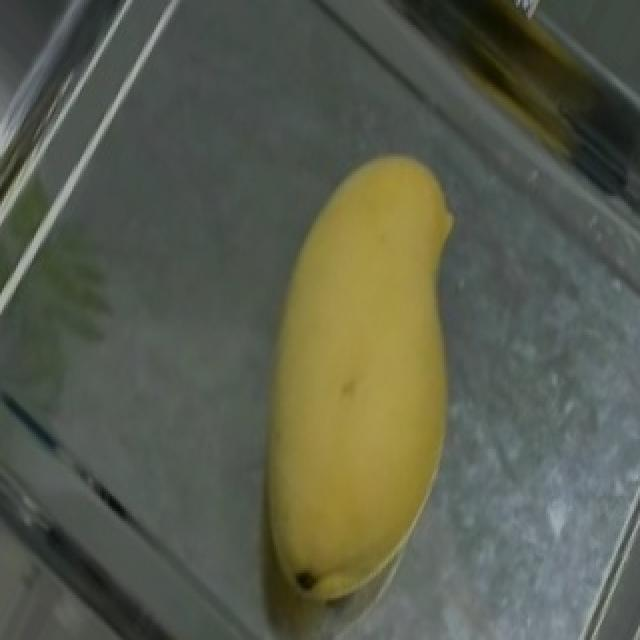fruit: (236, 109, 536, 504)
